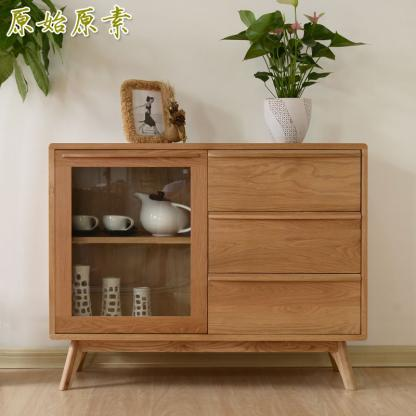Cupboard: (48, 143, 369, 390)
